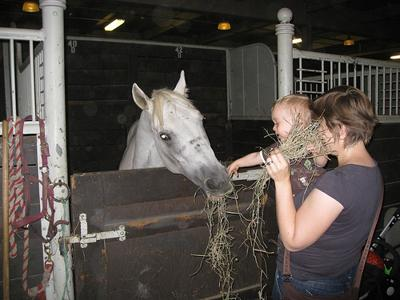person: (266, 87, 384, 300)
